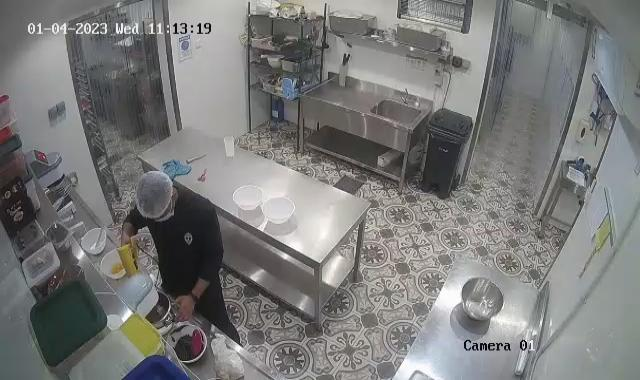hairnet: (134, 170, 172, 220)
